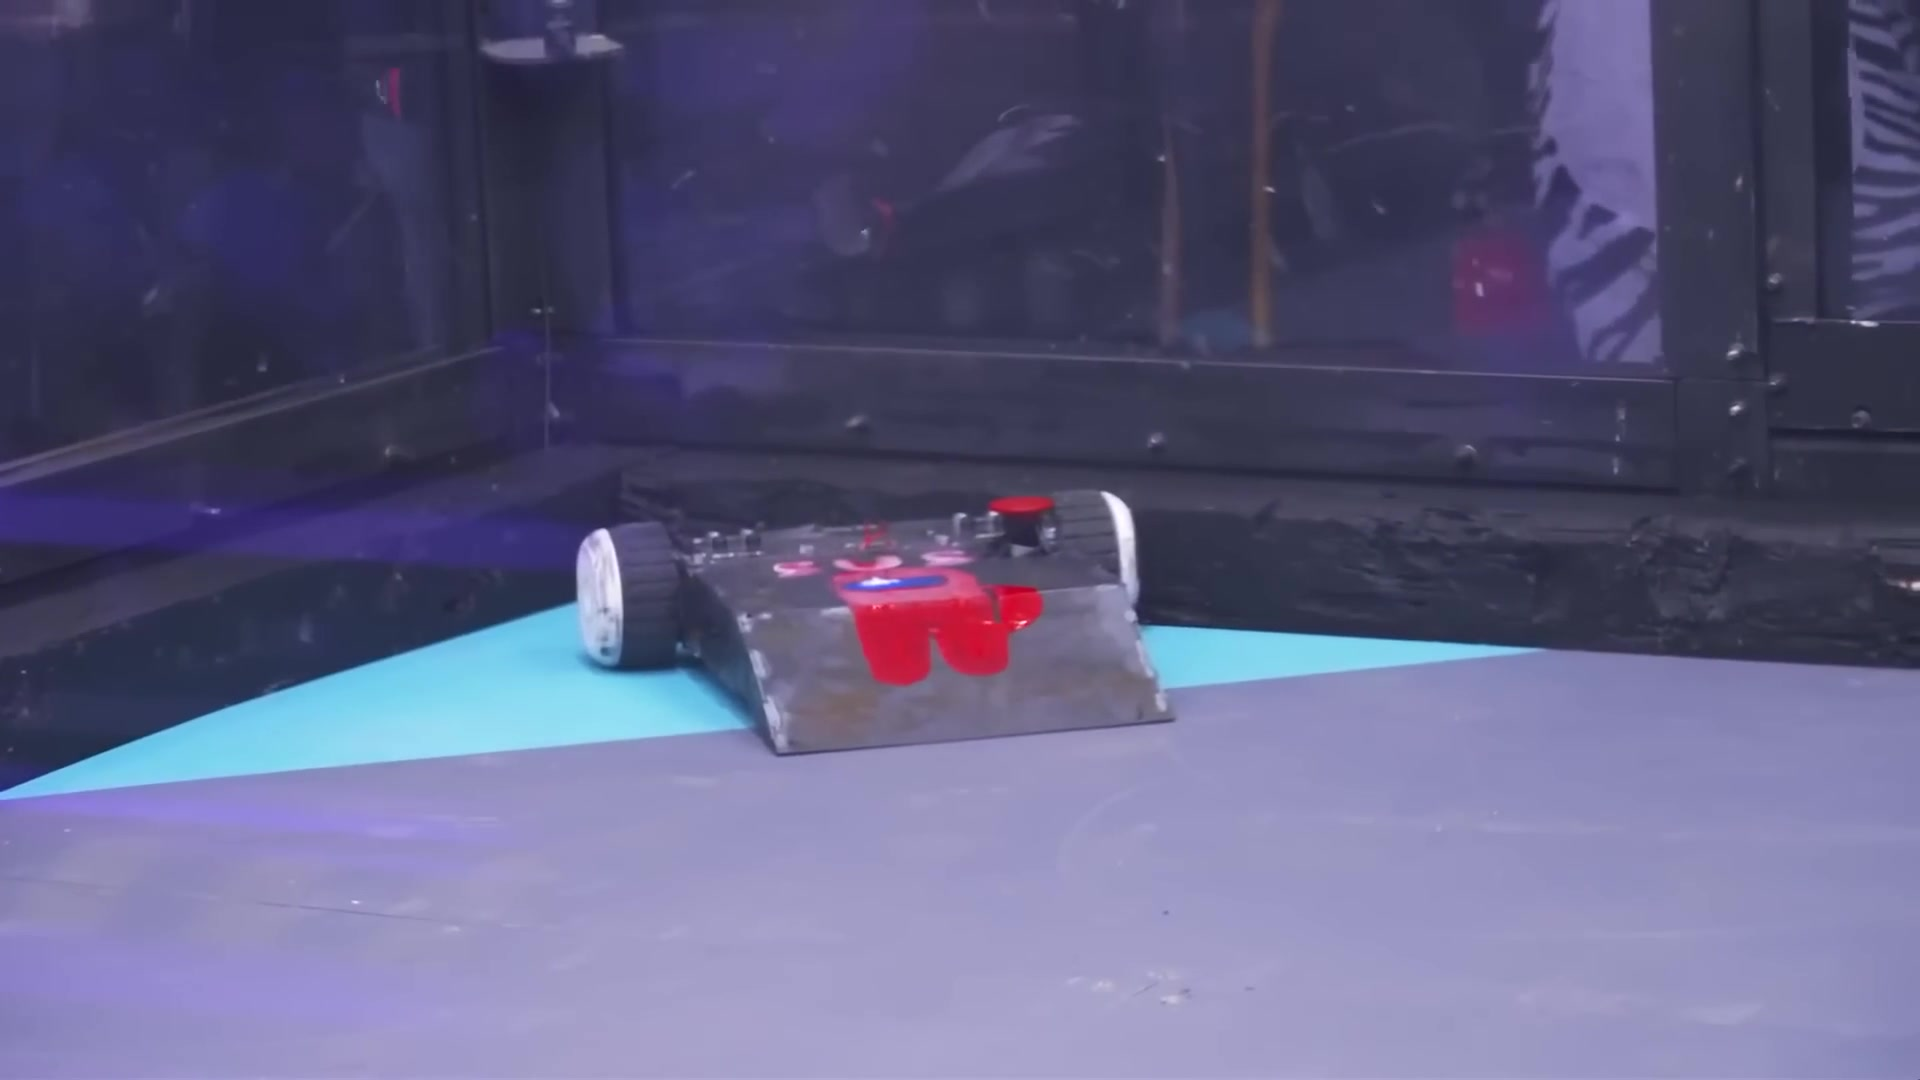minibot: (575, 489, 1187, 746)
